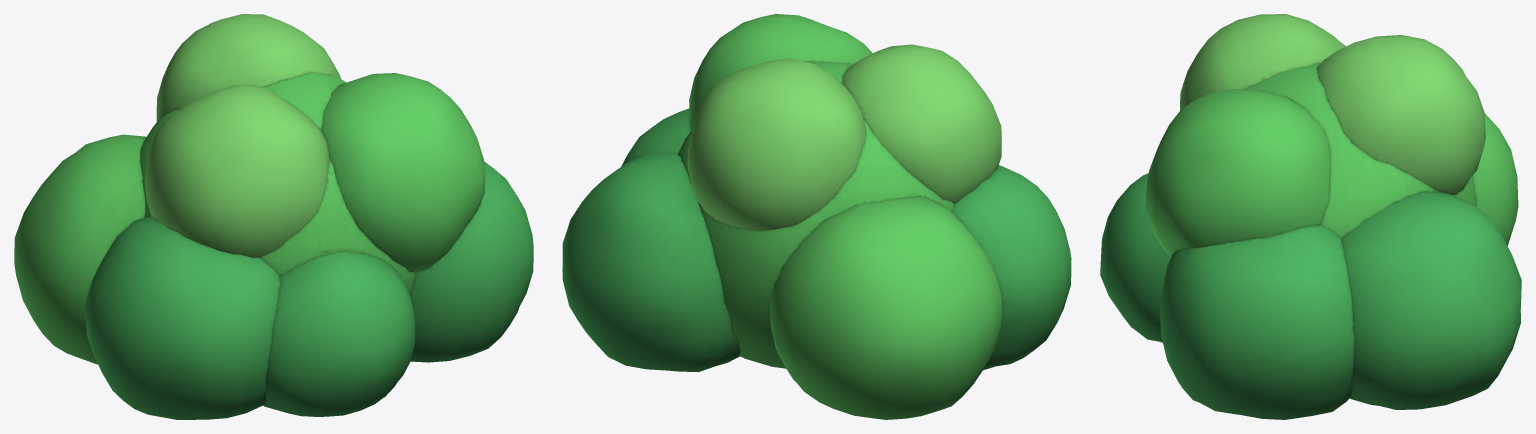
Rendered from bush_round.glb.
The picture shows the model from 3 angles, left to right: view 1: azimuth 30°, elevation 25°; view 2: azimuth 150°, elevation 25°; view 3: azimuth 270°, elevation 25°; orthographic projection.
Visible parts, largest first — view 1: bush_round; view 2: bush_round; view 3: bush_round.
Part boxes in pixels (left/top/right/bottom): bush_round: left=14, top=14, right=533, bottom=419; bush_round: left=562, top=14, right=1071, bottom=419; bush_round: left=1100, top=14, right=1521, bottom=419.
Bounding box in the file's own units: 1.53 × 1.02 × 1.31.
Materials: 3 (3 with a texture image).
